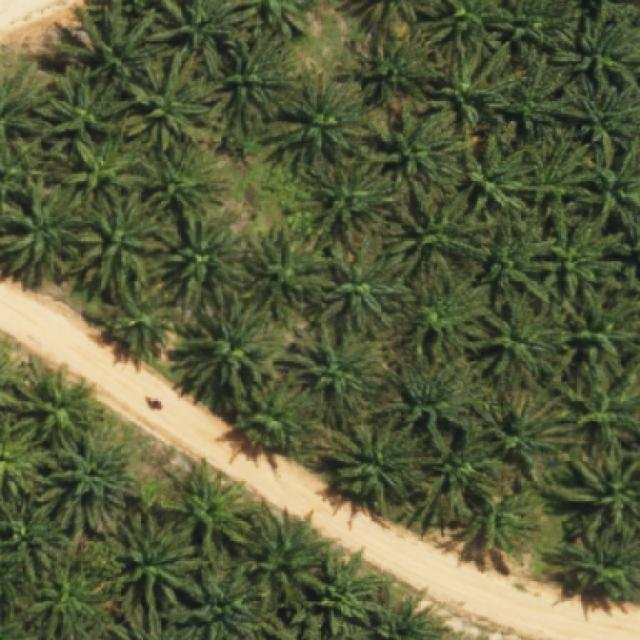Kelapa_Sawit: (172, 287, 282, 415), (272, 312, 394, 420), (268, 64, 377, 181), (68, 186, 175, 302), (380, 179, 497, 281), (34, 430, 144, 538), (375, 344, 480, 456), (242, 498, 338, 618), (107, 510, 210, 618), (210, 25, 302, 143), (373, 99, 481, 199), (316, 419, 424, 518), (478, 386, 585, 485), (394, 259, 494, 364), (157, 208, 258, 310), (238, 219, 338, 321), (33, 65, 138, 158), (120, 47, 212, 153), (537, 208, 628, 314), (290, 543, 388, 640), (336, 26, 447, 111), (170, 454, 259, 560), (4, 351, 102, 447), (422, 418, 503, 533), (302, 157, 404, 246), (476, 206, 561, 312), (498, 50, 596, 141), (434, 38, 529, 130), (470, 293, 559, 385), (459, 475, 553, 562), (136, 136, 232, 221), (229, 372, 317, 463), (557, 286, 640, 382), (23, 554, 115, 640), (313, 251, 409, 332), (64, 121, 142, 214), (460, 128, 540, 218), (523, 127, 600, 210), (104, 282, 178, 362)
